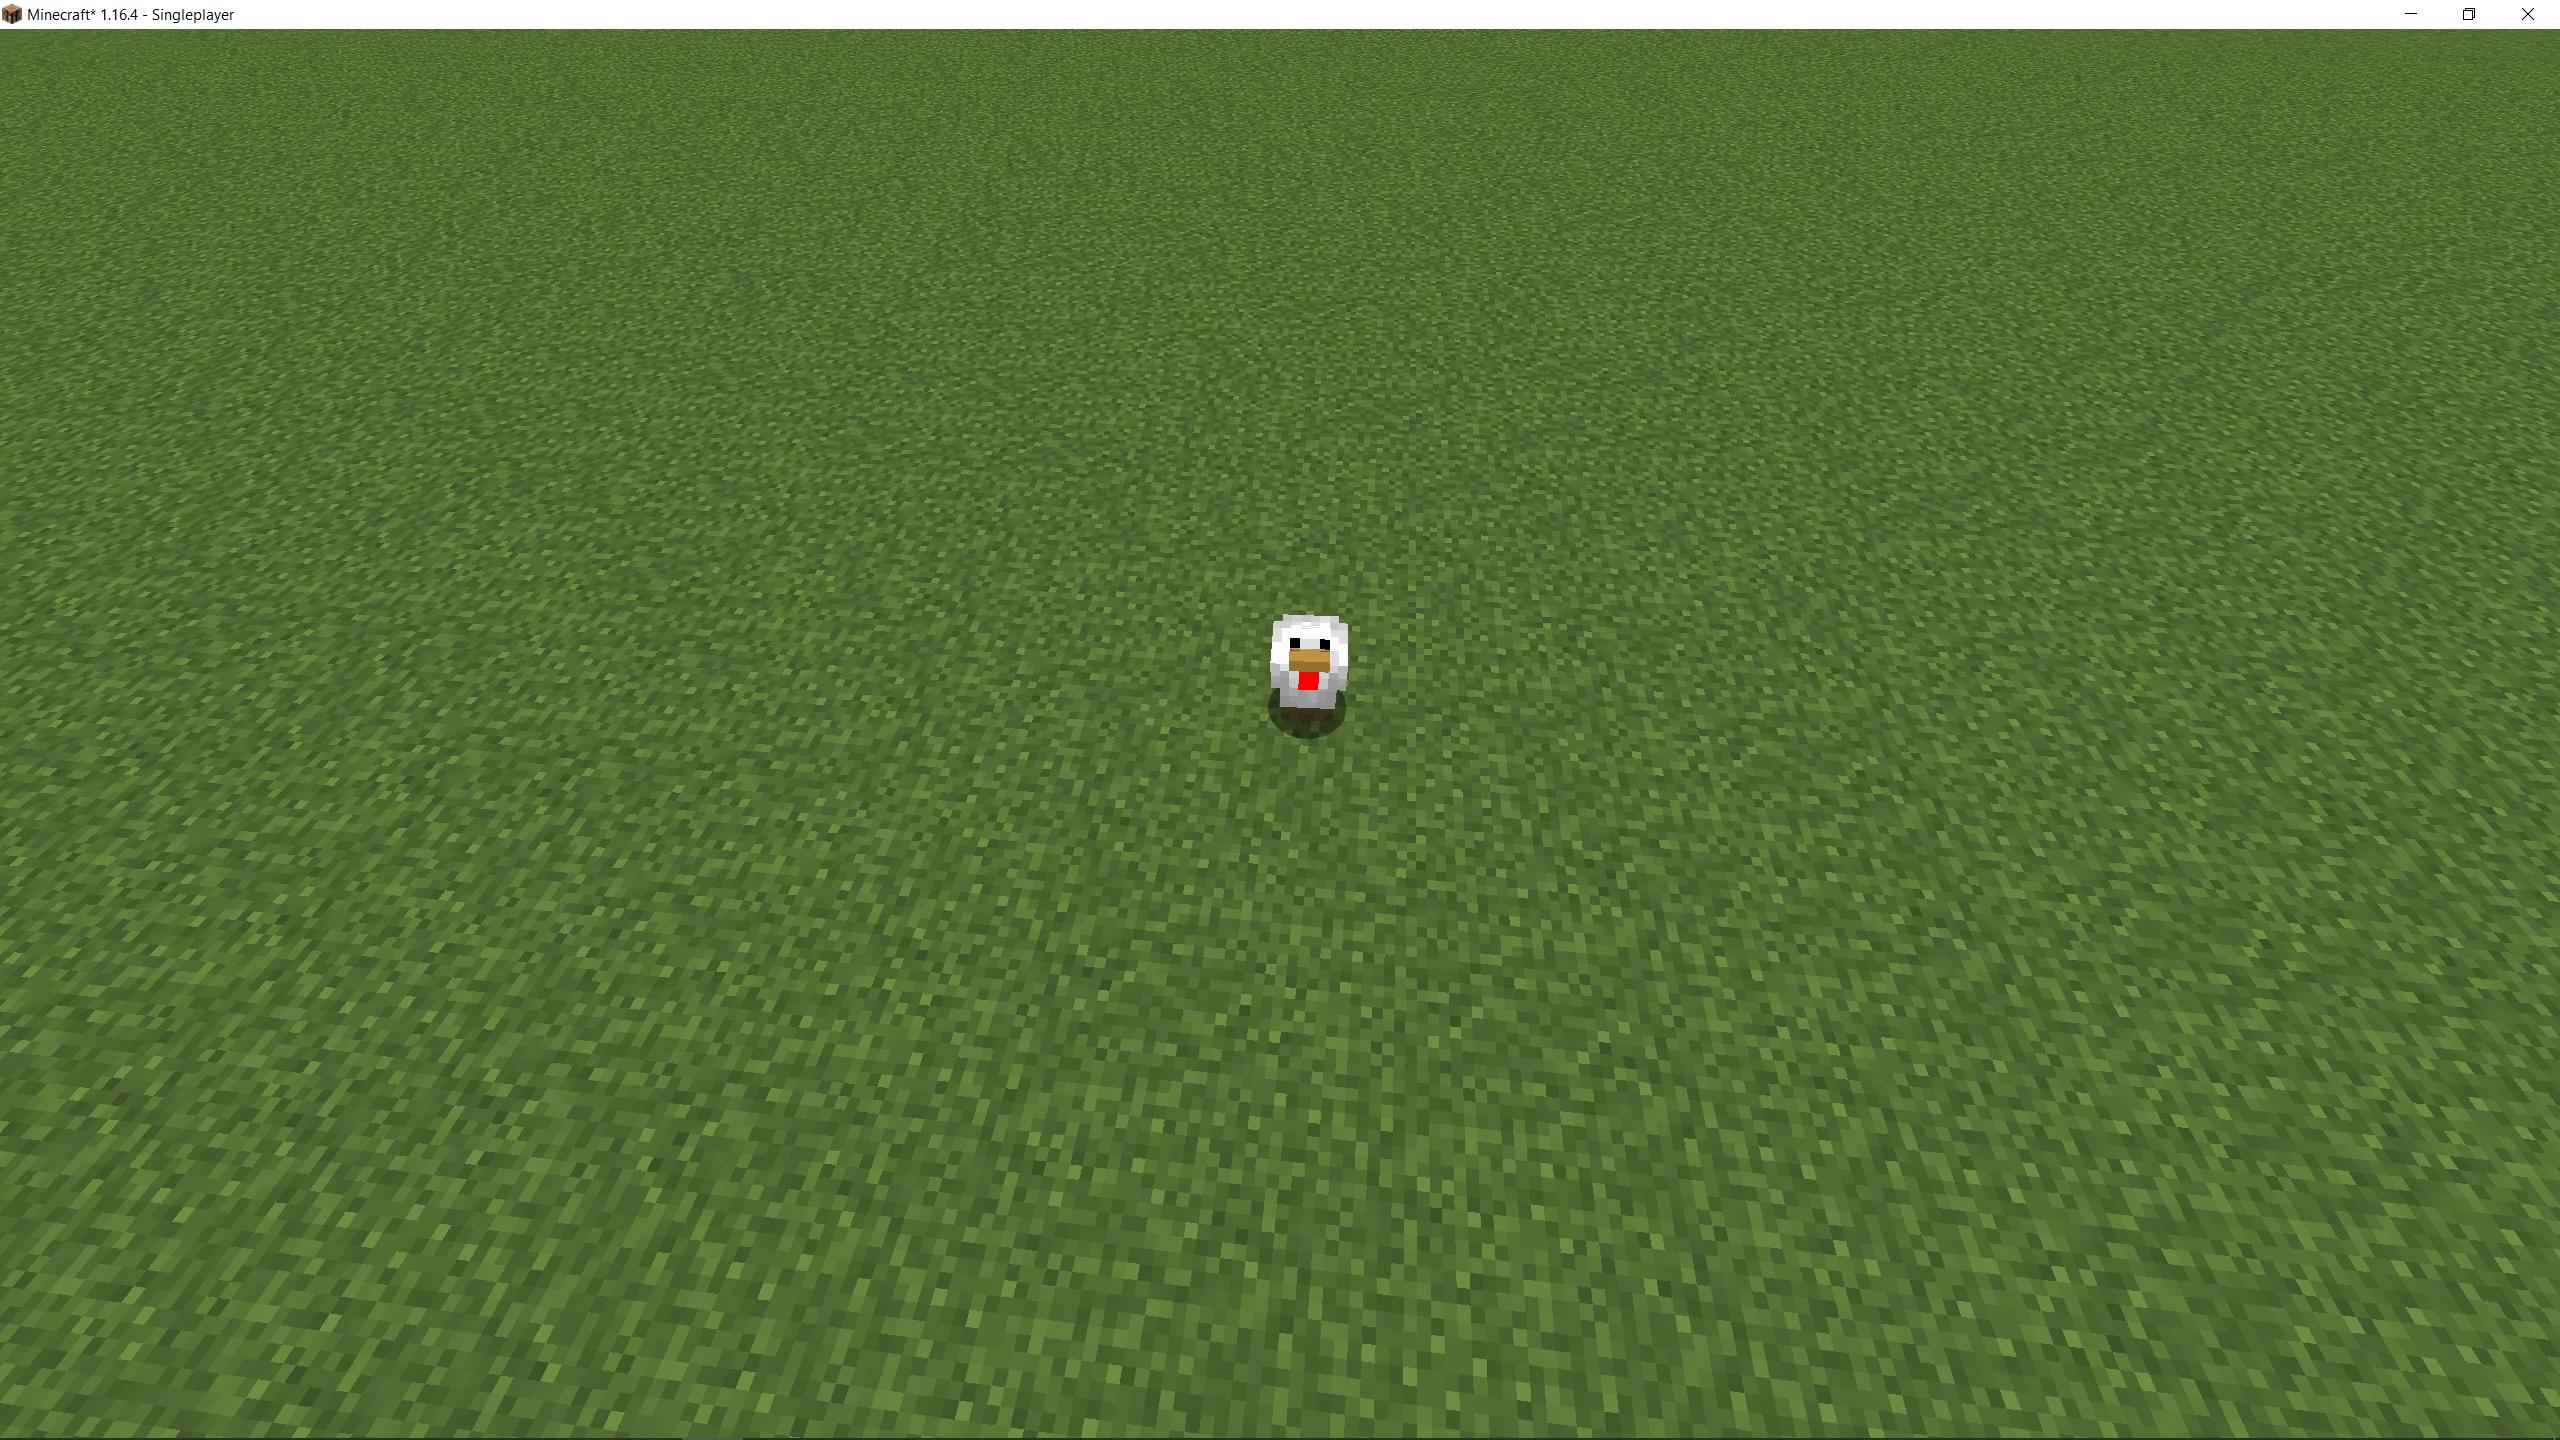chicken: (1261, 608, 1354, 733)
